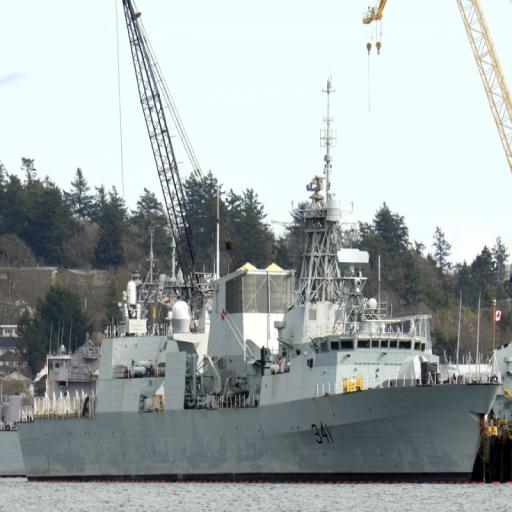Fragata: (13, 154, 507, 488)
